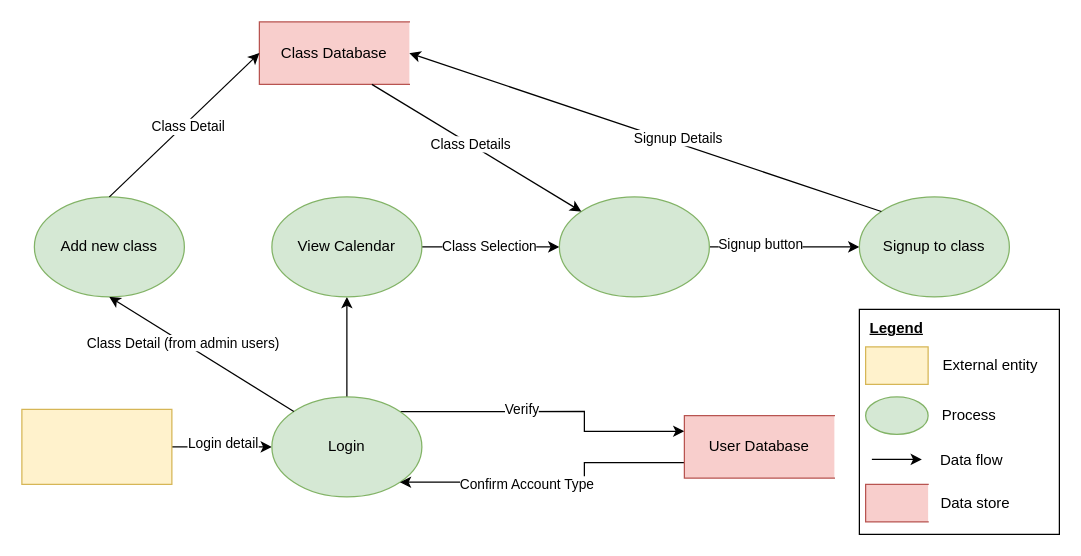
The diagram is 1081 pixels wide and 556 high, and some of its shapes have lost their labels. The shapes that lost their labels are listed below. From the top down, each one's centre as x and y in pixels, then its label:
At (633,246): "View class details".
At (96,446): "User".
